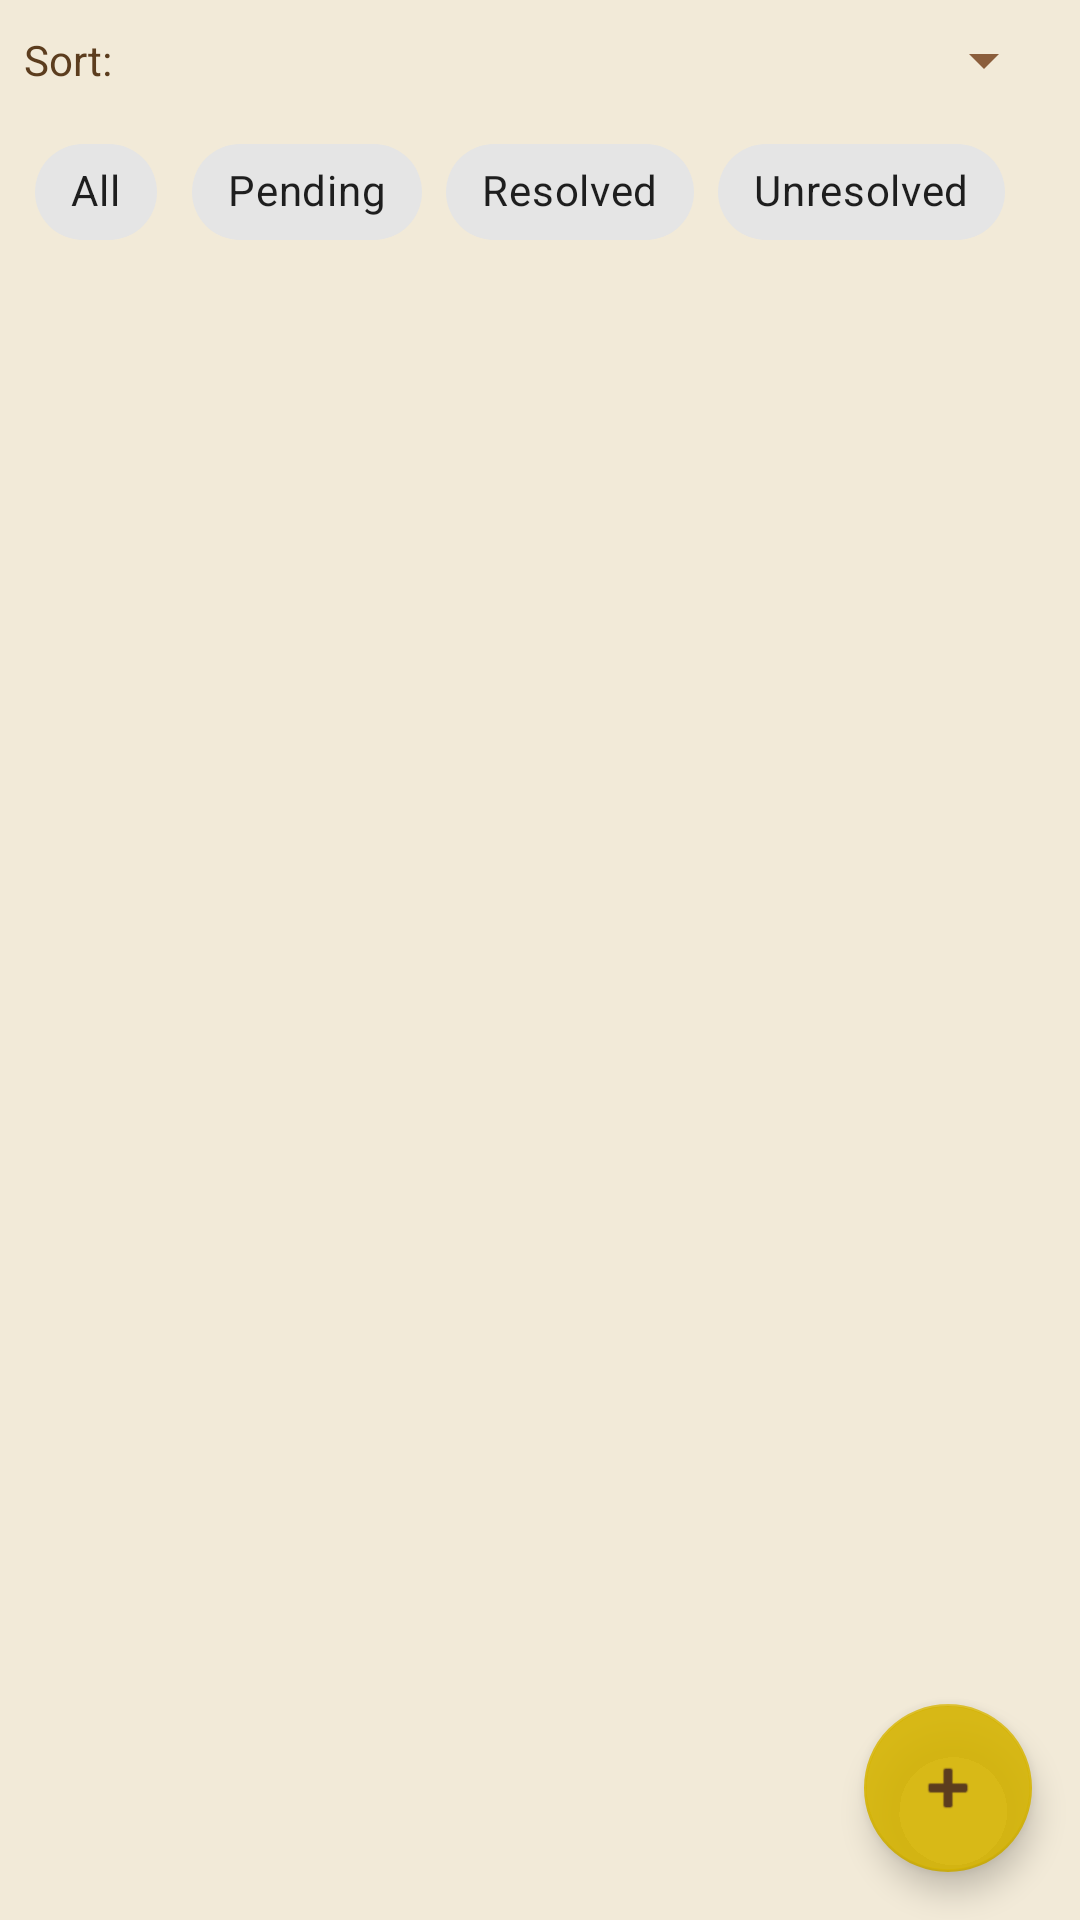

Icon click points for this 1080 x 1920 phone screenshot, format (x,y):
Create new post: (948,1788)
